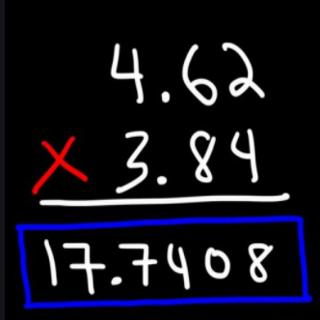.: (152, 164, 174, 193), (156, 87, 176, 110), (110, 270, 125, 287)
0: (201, 243, 236, 288)
1: (38, 236, 60, 289)
2: (219, 32, 272, 106)
3: (106, 123, 149, 193)
4: (99, 30, 152, 110), (222, 120, 268, 189), (158, 237, 191, 294)
6: (179, 31, 221, 110)
7: (60, 238, 104, 295), (114, 235, 156, 288)
8: (185, 123, 219, 185), (240, 235, 279, 287)
